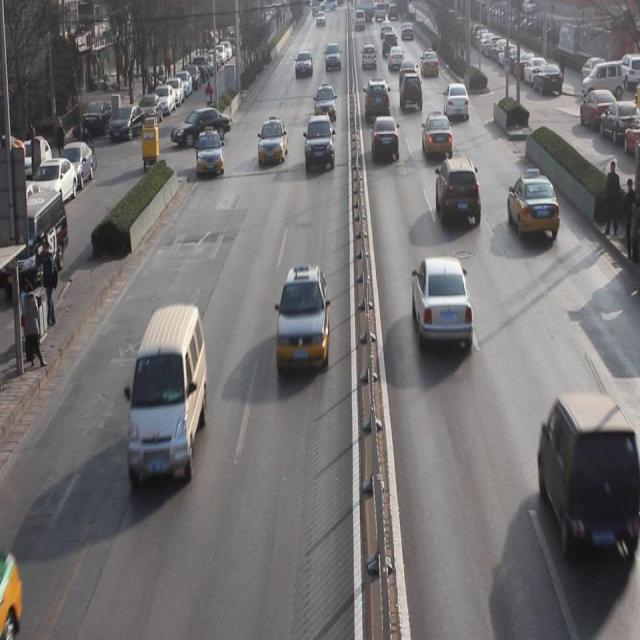car: (413, 254, 474, 355), (276, 264, 330, 372), (508, 170, 561, 242), (438, 155, 480, 230), (302, 113, 334, 173), (424, 113, 455, 160), (258, 119, 289, 164), (196, 130, 225, 176), (373, 113, 399, 160), (364, 76, 389, 123), (444, 80, 470, 121), (313, 85, 337, 124), (402, 70, 423, 110), (294, 48, 314, 80), (324, 44, 341, 73)
truck: (540, 392, 624, 562), (128, 310, 208, 481)
